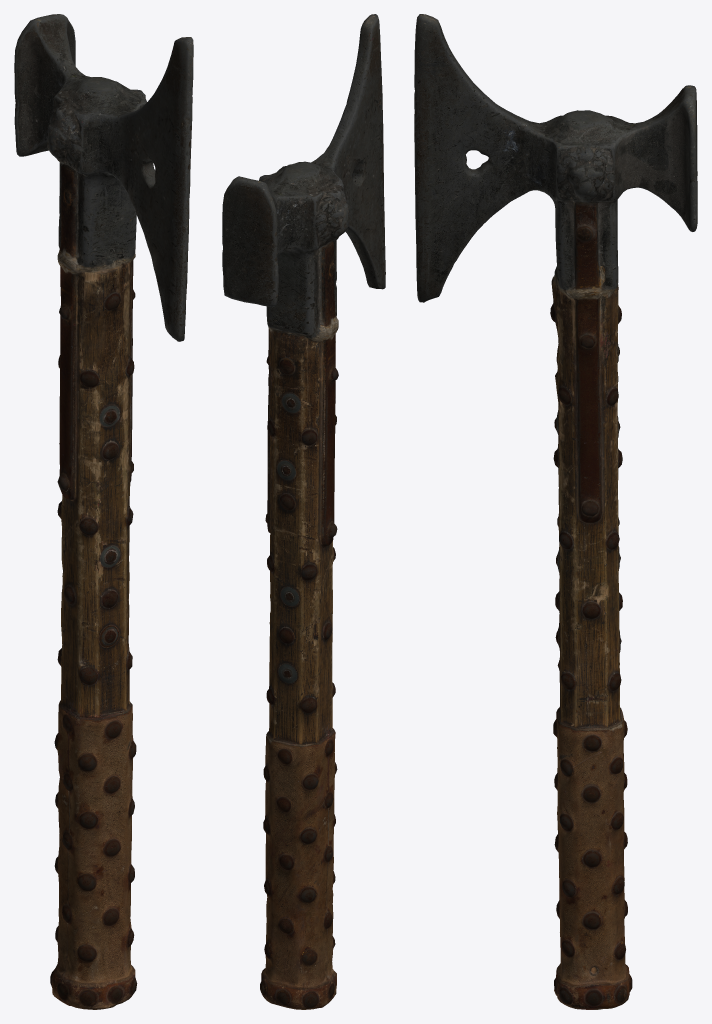
File: Ejercicio_Hacha.glb
3 renders of one model, left to right at view 1: azimuth 30°, elevation 25°; view 2: azimuth 150°, elevation 25°; view 3: azimuth 270°, elevation 25°, orthographic. The views are drawn at different scales.
Parts seen in each view (by area): view 1: War_Axe; view 2: War_Axe; view 3: War_Axe.
Part boxes in pixels (x1,y1,x2,y2): War_Axe: (14, 14, 193, 1009); War_Axe: (222, 14, 385, 1009); War_Axe: (414, 14, 697, 1009).
Size of the model in its own units: 0.0679 by 0.6499 by 0.1692.
Materials: 1 (1 with a texture image).
